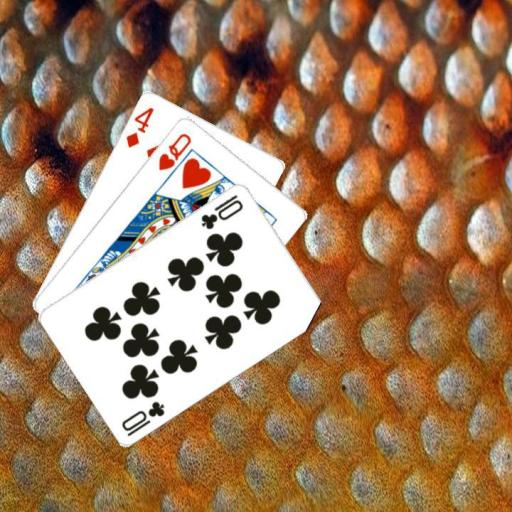10C: (118, 398, 166, 438), (198, 191, 245, 231)
4D: (122, 103, 155, 149)
QH: (155, 130, 193, 172)
